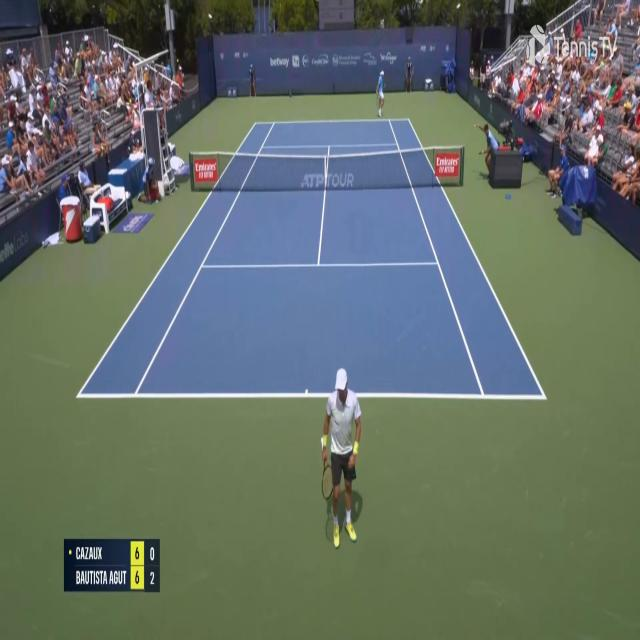tennis-player: (319, 361, 366, 554), (376, 68, 387, 120)
